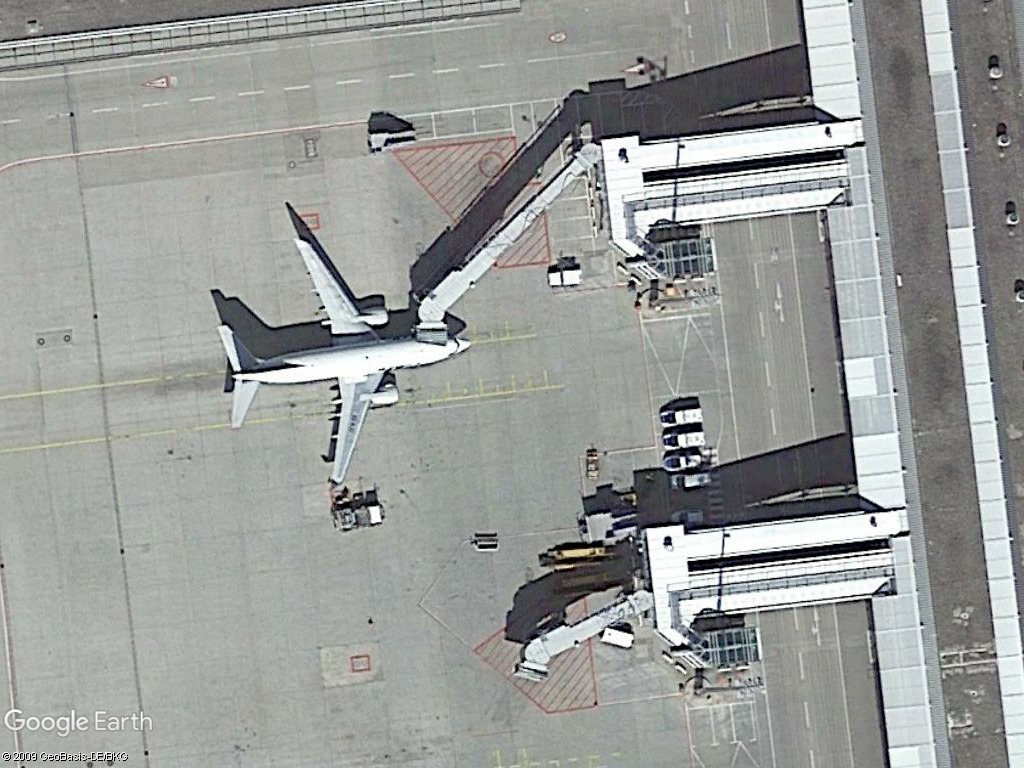airliner: (212, 240, 477, 490)
stairtruck: (362, 125, 421, 155)
